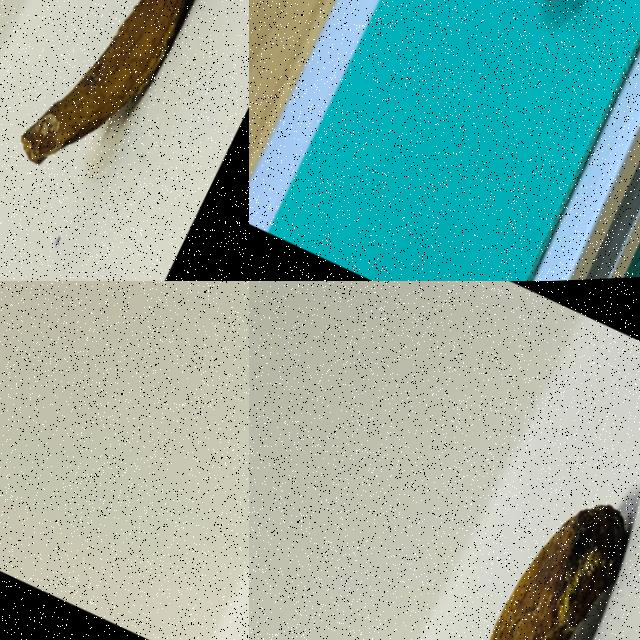Flat_cocoabeans: (332, 404, 639, 639), (0, 0, 248, 248), (422, 0, 639, 154)
